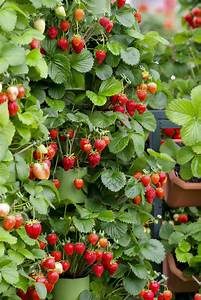Fresa: (23, 218, 47, 241), (86, 149, 104, 172), (60, 152, 76, 174), (143, 186, 157, 207), (93, 47, 107, 68), (105, 261, 120, 279), (125, 99, 138, 119), (60, 242, 75, 259), (45, 25, 62, 40), (92, 262, 105, 279), (74, 239, 87, 256), (139, 173, 151, 189), (135, 101, 147, 117), (87, 231, 99, 246), (98, 14, 109, 30), (117, 93, 128, 107), (104, 20, 115, 32), (156, 188, 165, 201)
